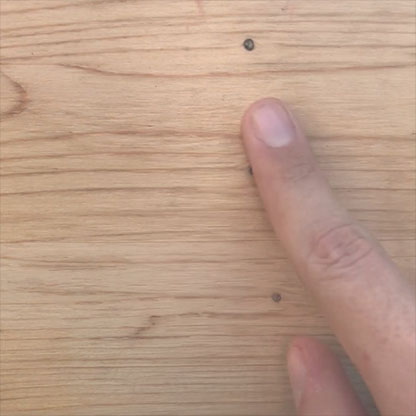fingertip: (230, 92, 319, 163)
